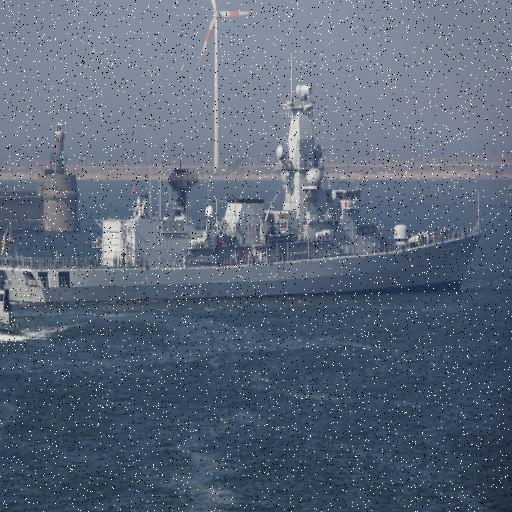Fragata: (1, 51, 486, 314)
